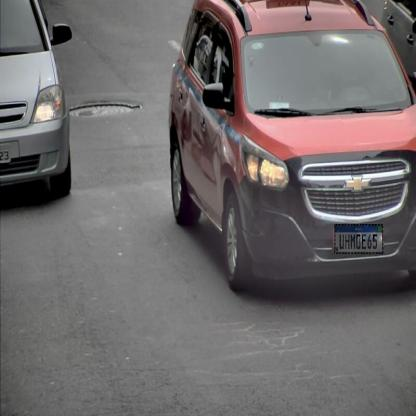PlacaM: (335, 224, 384, 254)
